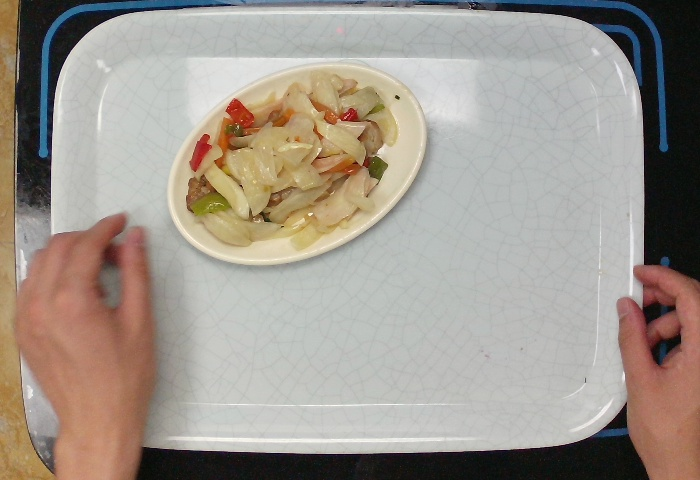JYsf-Tuo_Yuan_Wan: (165, 60, 429, 267)
